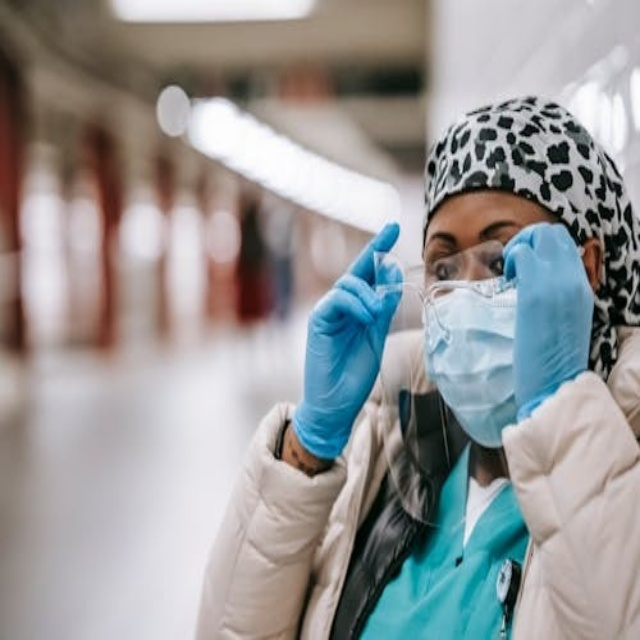Gafas: (374, 240, 534, 329)
Guantes: (292, 222, 405, 462), (505, 222, 596, 425)
Mascara: (421, 262, 523, 449)
